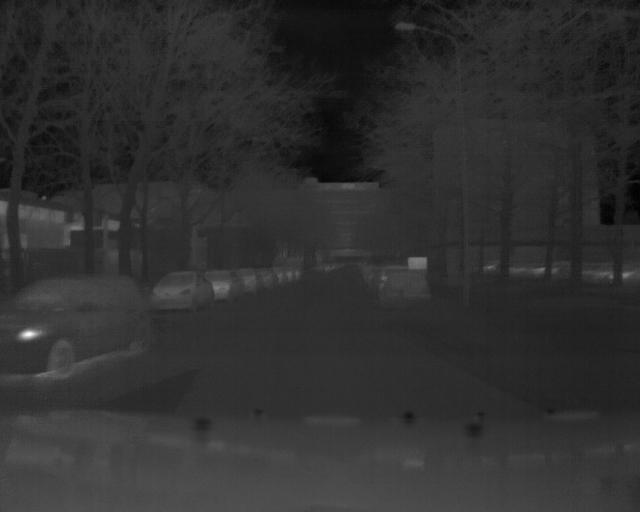car: (1, 272, 149, 380), (146, 269, 216, 313), (372, 264, 434, 308), (201, 269, 250, 302)
